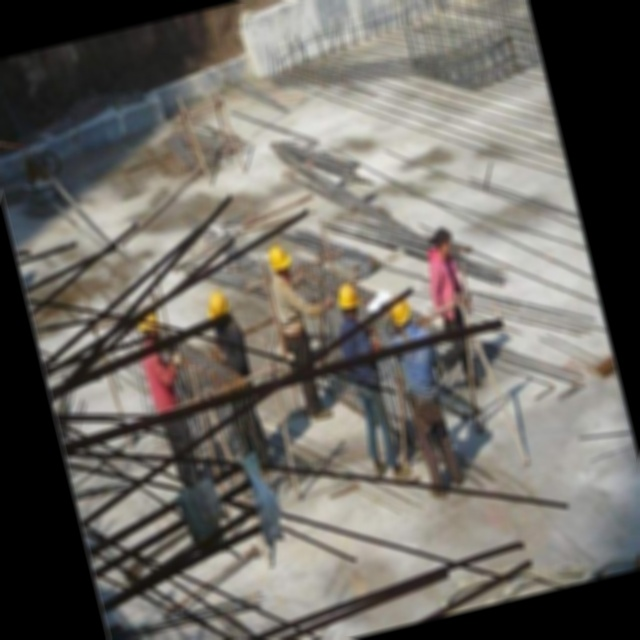Con_Casco: (332, 280, 363, 320), (263, 243, 292, 280)
